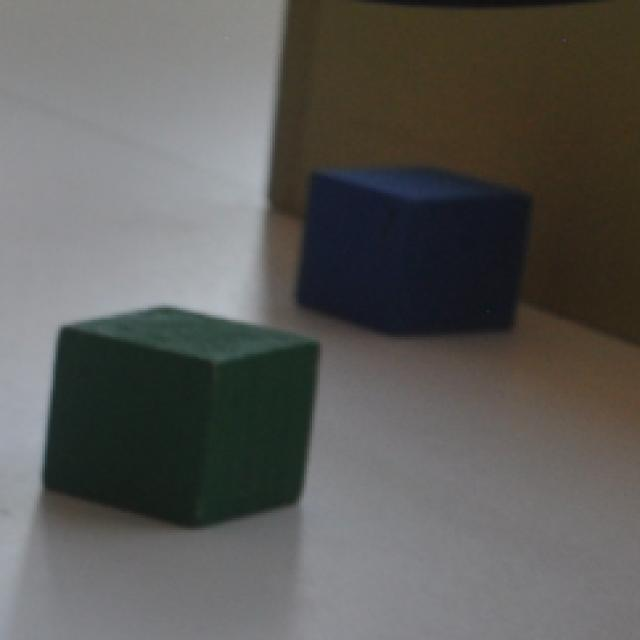bluecube: (295, 161, 533, 340)
green cube: (38, 304, 323, 532)
